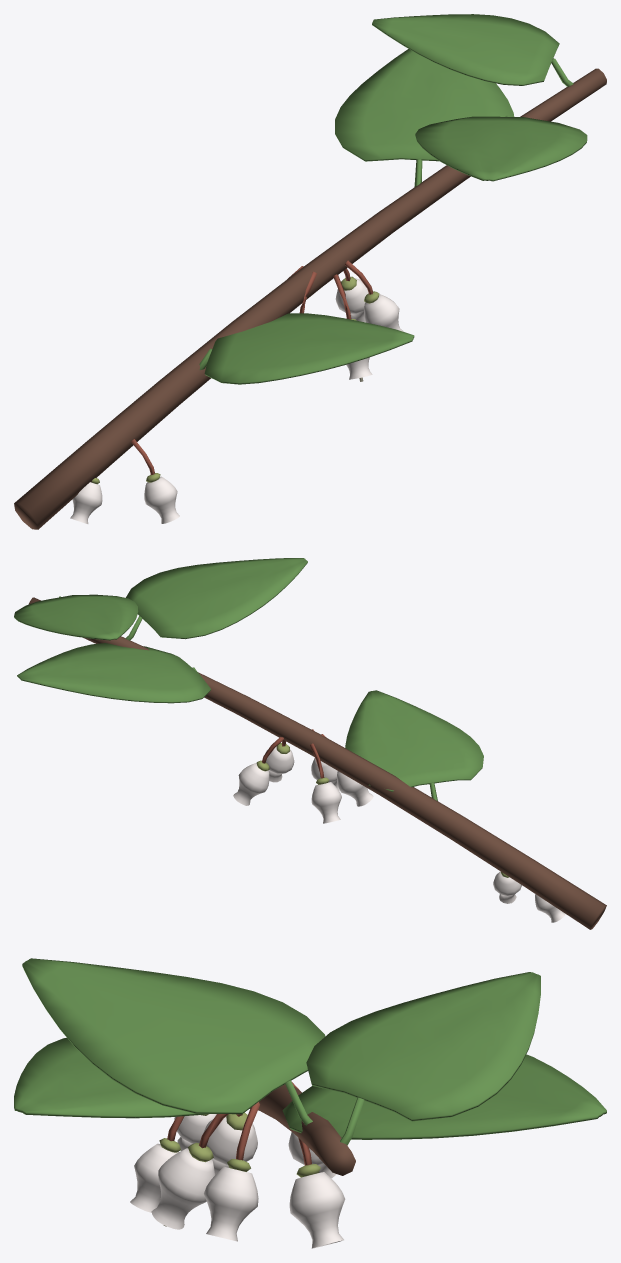
File: flower-vaccinium-low.glb
The picture shows the model from 3 angles, top to bottom: view 1: azimuth 30°, elevation 25°; view 2: azimuth 150°, elevation 25°; view 3: azimuth 270°, elevation 25°; orthographic projection. The views are drawn at different scales.
Visible parts, largest first — view 1: leaves, twig, cluster_flowers; view 2: leaves, twig, cluster_flowers; view 3: leaves, cluster_flowers, hero_bell, twig, hero_parts.
Part boxes in pixels (x1=…): leaves: x1=199, y1=14, x2=587, y2=384; twig: x1=14, y1=68, x2=606, y2=529; cluster_flowers: x1=70, y1=260, x2=403, y2=523; leaves: x1=14, y1=558, x2=483, y2=800; twig: x1=28, y1=597, x2=606, y2=929; cluster_flowers: x1=233, y1=734, x2=565, y2=922; leaves: x1=14, y1=958, x2=606, y2=1145; cluster_flowers: x1=130, y1=1081, x2=345, y2=1248; hero_bell: x1=151, y1=1148, x2=214, y2=1229; twig: x1=250, y1=1084, x2=355, y2=1175; hero_parts: x1=163, y1=1114, x2=228, y2=1226.
Size of the model in its own units: 12.17 by 5.98 by 6.66.
